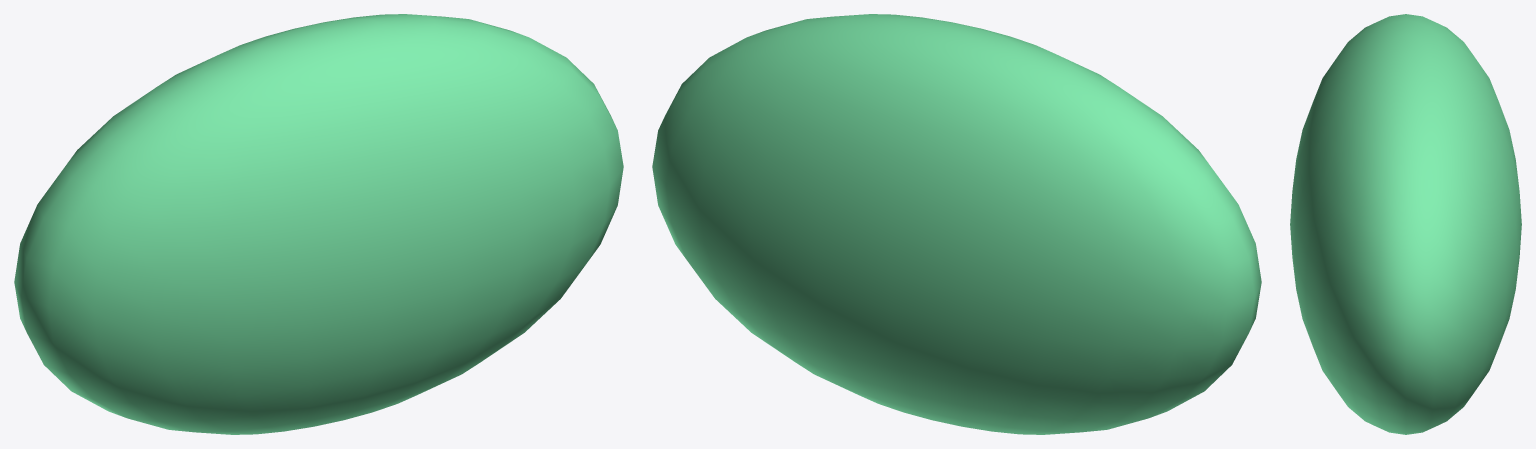
Rendered from plant-cell.glb.
3 renders of one model, left to right at view 1: azimuth 30°, elevation 25°; view 2: azimuth 150°, elevation 25°; view 3: azimuth 270°, elevation 25°, orthographic. The views are drawn at different scales.
Visible parts, largest first — view 1: Cell wall; view 2: Cell wall; view 3: Cell wall.
Boxes of the visible parts, x1,y1,x2,y2 form: Cell wall: (14,14,623,434); Cell wall: (652,14,1261,434); Cell wall: (1290,14,1521,434).
Size of the model in its own units: 5.2 by 3.2 by 2.
